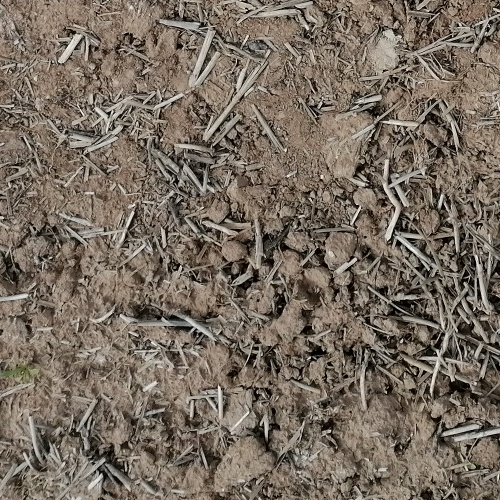beet: (0, 360, 39, 378)
